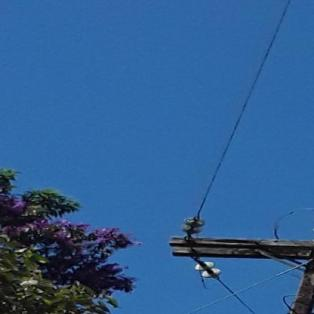Poste: (227, 234, 313, 314)
